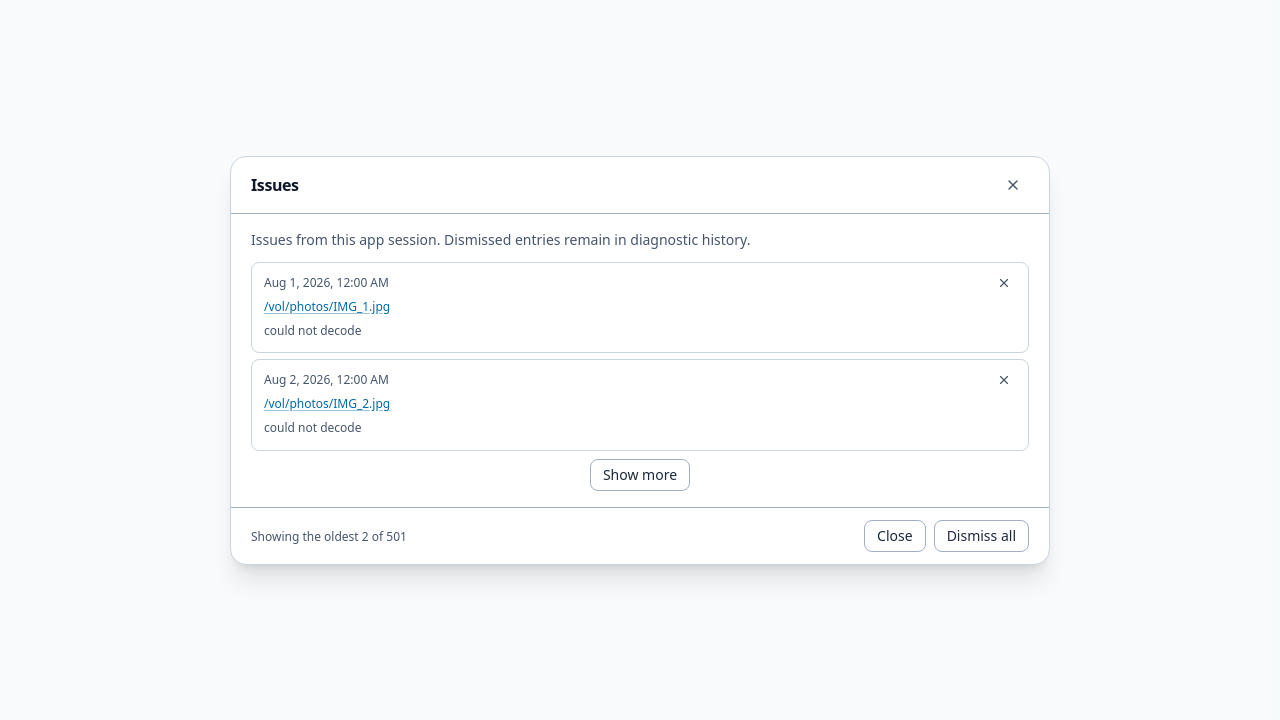
Test case: the issues modal › reaches row 501 through Show more, using a keyset cursor from the last loaded row
Expected: the text "IMG_3.jpg" is not shown
Click the button "Show more" at (640, 474), box [590,458,690,490]
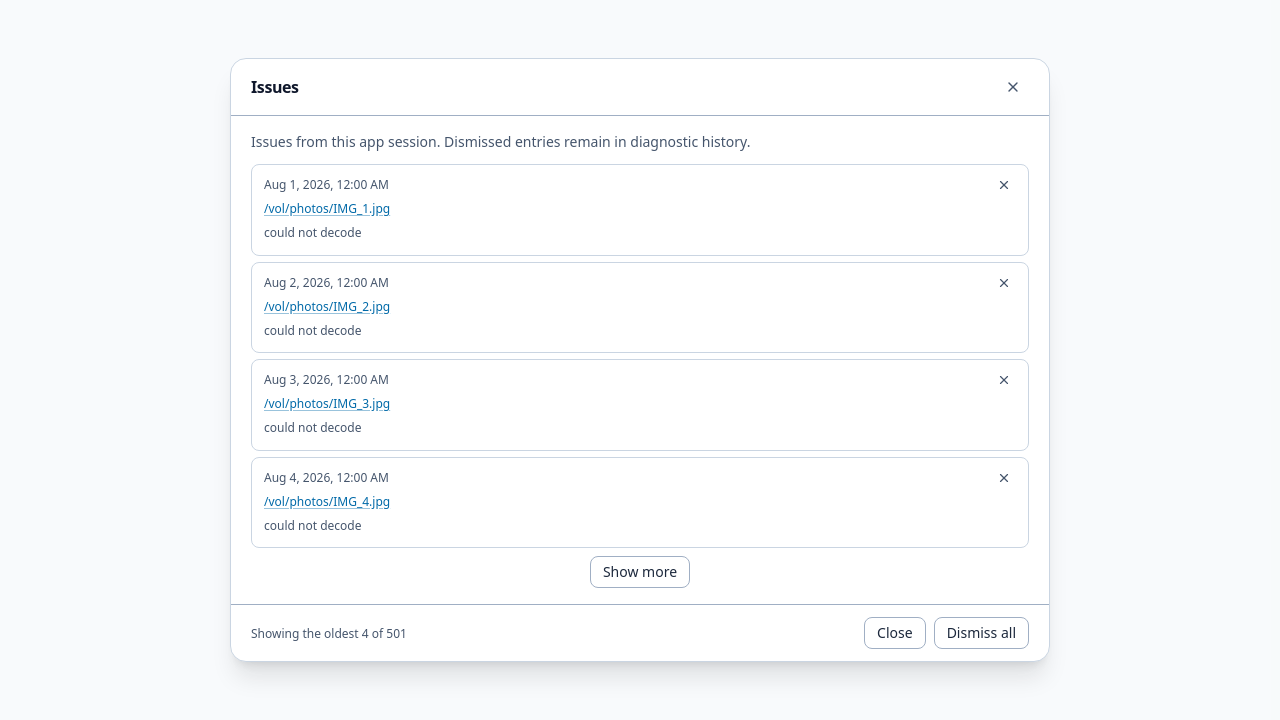
Expected: the text "Showing the oldest 4 of 501" is shown, [251,625,407,642]
